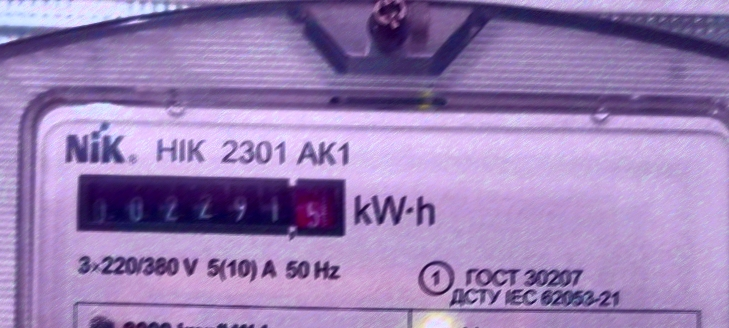0: (91, 194, 109, 223), (129, 194, 145, 223)
1: (268, 192, 282, 226)
2: (164, 193, 180, 223), (199, 191, 213, 220)
5: (306, 199, 322, 229)
9: (233, 193, 249, 223)
screen: (73, 167, 351, 245)
